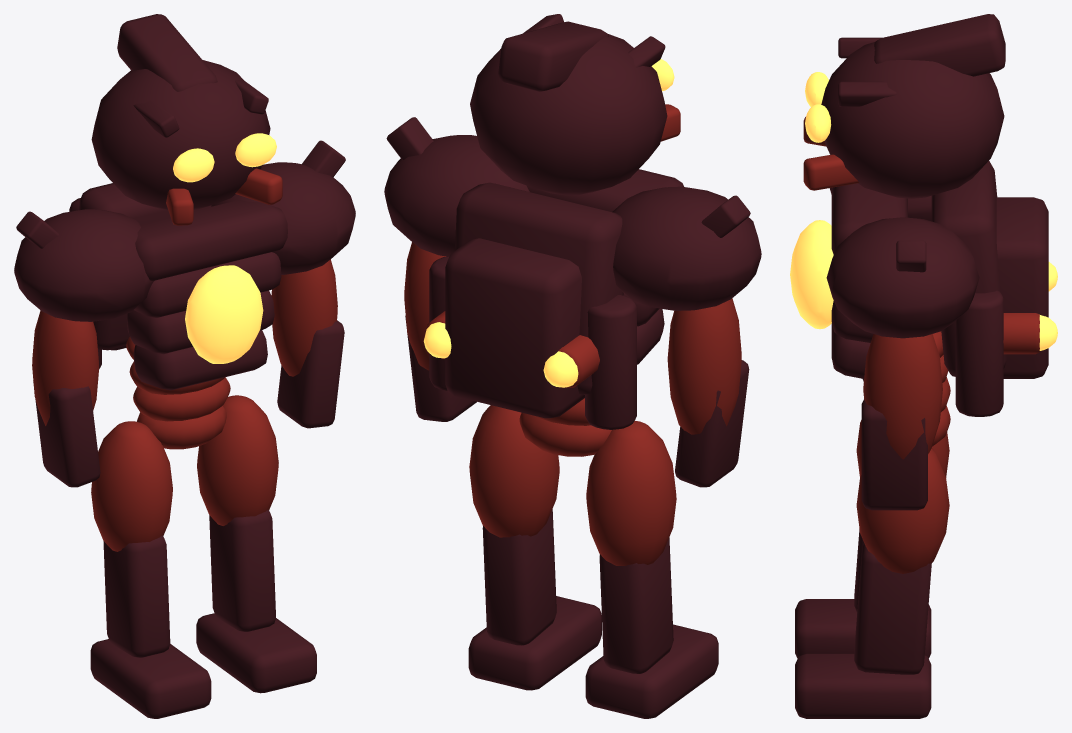
File: Technician_EmberBrood_Armor.fbx
3 views of the same model, side by side, from view 1: azimuth 30°, elevation 25°; view 2: azimuth 150°, elevation 25°; view 3: azimuth 270°, elevation 25° (orthographic). The views are drawn at different scales.
Visible parts, largest first — view 1: Cranium.004, CarapaceShoulder_L.004, ThighMuscle_L.004, ThoraxPlate_00.004, ThighMuscle_R.004, ReverseShin_R.004, ReverseShin_L.004, CarapaceShoulder_R.004, ClawedFoot_L.004, ClawedFoot_R.004, MoltenHeart.004, UpperLimb_R.004 (+19 smaller); view 2: Cranium.004, RepairSymbiote.001, CarapaceShoulder_L.004, DorsalCarapace.004, ThighMuscle_L.004, ThighMuscle_R.004, CarapaceShoulder_R.004, UpperLimb_L.004, ReverseShin_R.004, ReverseShin_L.004, ClawedFoot_R.004, ClawedFoot_L.004 (+15 smaller); view 3: Cranium.004, CarapaceShoulder_R.004, ReverseShin_R.004, ClawedFoot_R.004, UpperLimb_R.004, RepairSymbiote.001, ThighMuscle_R.004, ToolPod_1.001, DorsalCarapace.004, Crown.004, ClawGuard_R.004, MoltenHeart.004 (+14 smaller).
Boxes of the visible parts, bbox=[...] form: Cranium.004: bbox=[91, 60, 270, 210]; CarapaceShoulder_L.004: bbox=[14, 209, 154, 321]; ThighMuscle_L.004: bbox=[91, 421, 172, 551]; ThoraxPlate_00.004: bbox=[135, 200, 287, 280]; ThighMuscle_R.004: bbox=[197, 395, 278, 525]; ReverseShin_R.004: bbox=[209, 509, 275, 631]; ReverseShin_L.004: bbox=[103, 535, 170, 657]; CarapaceShoulder_R.004: bbox=[211, 162, 355, 274]; ClawedFoot_L.004: bbox=[90, 639, 211, 718]; ClawedFoot_R.004: bbox=[196, 613, 316, 693]; MoltenHeart.004: bbox=[185, 265, 263, 363]; UpperLimb_R.004: bbox=[271, 259, 337, 376]; Cranium.004: bbox=[470, 34, 667, 195]; RepairSymbiote.001: bbox=[445, 238, 584, 418]; CarapaceShoulder_L.004: bbox=[612, 186, 761, 310]; DorsalCarapace.004: bbox=[455, 182, 623, 394]; ThighMuscle_L.004: bbox=[586, 421, 676, 565]; ThighMuscle_R.004: bbox=[469, 405, 559, 537]; CarapaceShoulder_R.004: bbox=[384, 135, 529, 256]; UpperLimb_L.004: bbox=[667, 298, 741, 434]; ReverseShin_R.004: bbox=[482, 509, 556, 645]; ReverseShin_L.004: bbox=[599, 537, 673, 673]; ClawedFoot_R.004: bbox=[468, 596, 601, 690]; ClawedFoot_L.004: bbox=[585, 624, 718, 718]; Cranium.004: bbox=[821, 42, 1004, 198]; CarapaceShoulder_R.004: bbox=[826, 217, 979, 338]; ReverseShin_R.004: bbox=[854, 544, 931, 674]; ClawedFoot_R.004: bbox=[795, 653, 931, 718]; UpperLimb_R.004: bbox=[863, 334, 942, 459]; RepairSymbiote.001: bbox=[996, 197, 1048, 378]; ThighMuscle_R.004: bbox=[856, 448, 949, 573]; ToolPod_1.001: bbox=[955, 290, 1003, 416]; DorsalCarapace.004: bbox=[931, 161, 1007, 376]; Crown.004: bbox=[874, 14, 1005, 76]; ClawGuard_R.004: bbox=[861, 399, 927, 510]; MoltenHeart.004: bbox=[790, 220, 833, 329].
Bounding box in the file's own units: 239 × 436 × 161.
